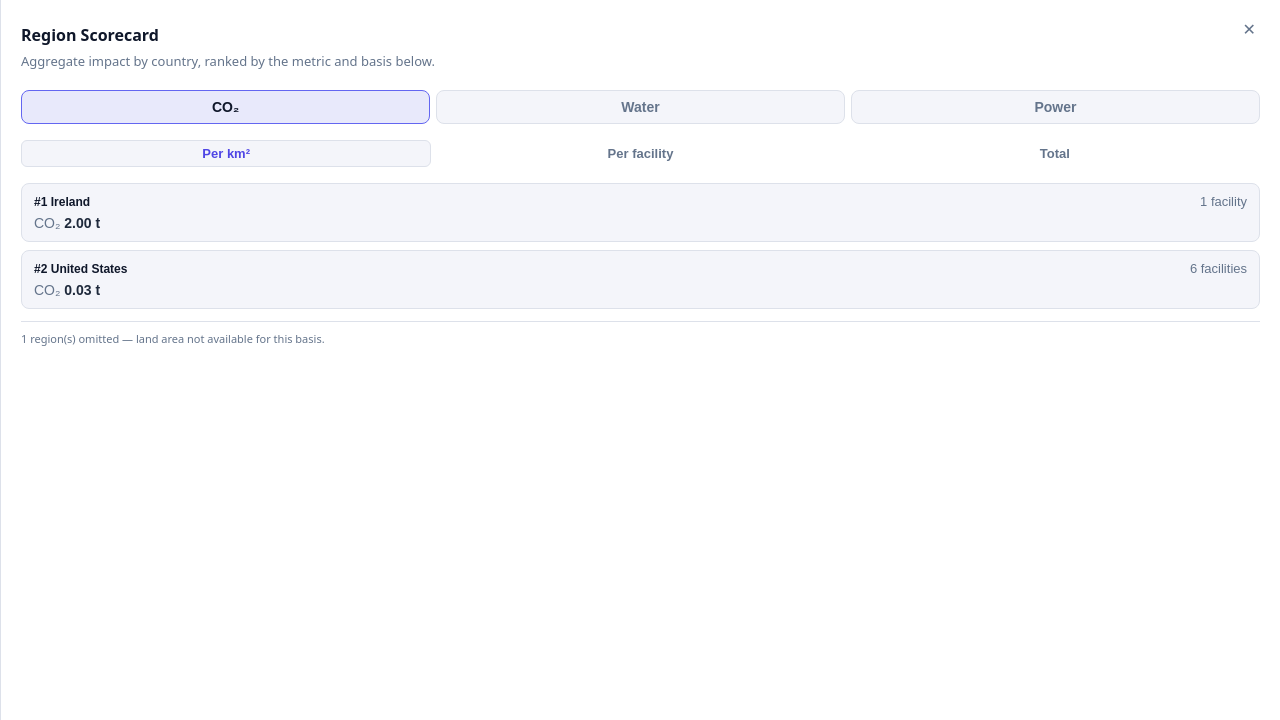
Test: RegionScorecard › only shows the water stress line when the Water metric is selected
Expected: the text "#1 Ireland" is shown, [34, 194, 90, 208]
Expected: the text "Water stress" is not shown
Click the button "Water".
click(640, 106)  # box [436, 90, 845, 124]
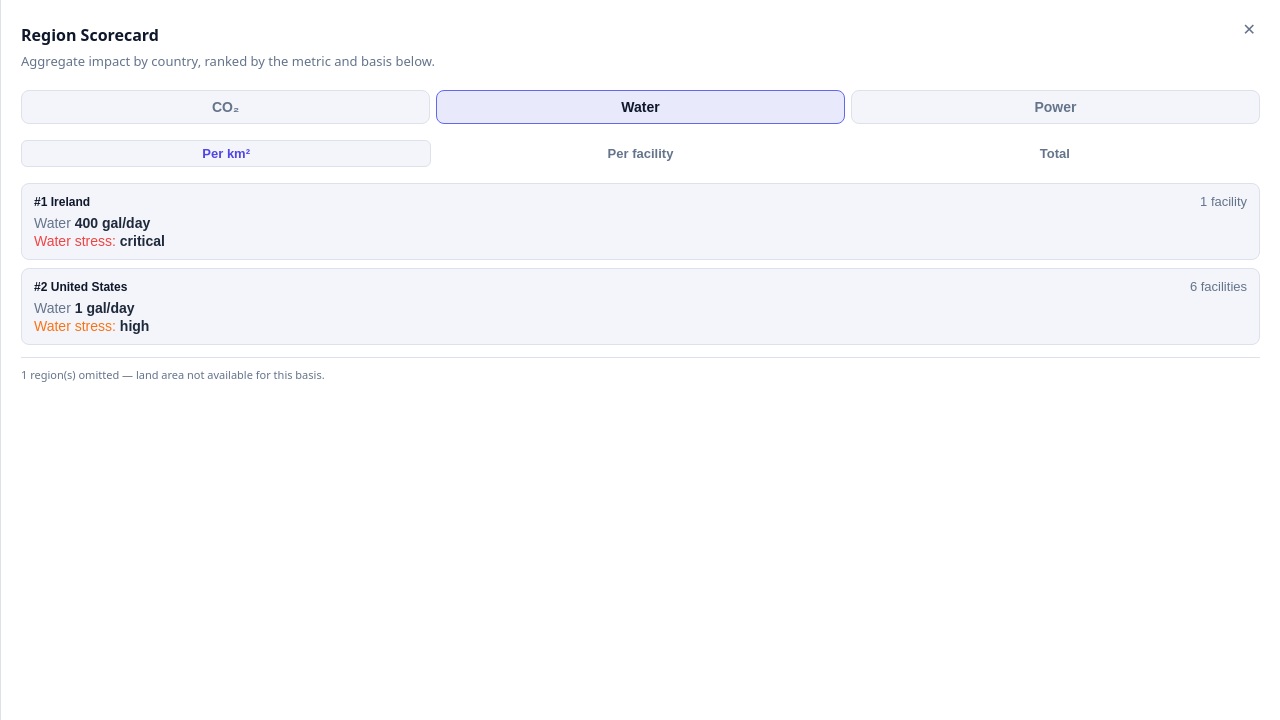
Now the text "Water stress: critical" is shown, box [34, 232, 165, 248]
Click the button "Power".
click(1056, 106)  # box [851, 90, 1260, 124]
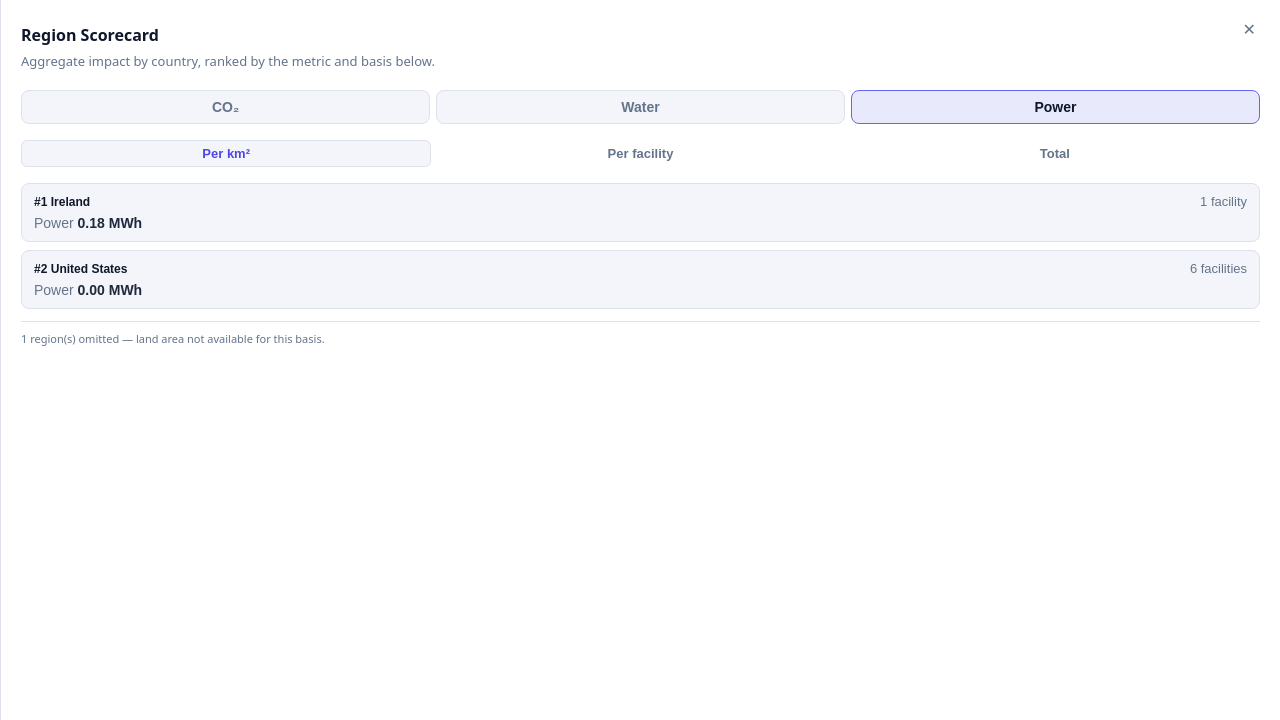
Now the text "Water stress" is gone
